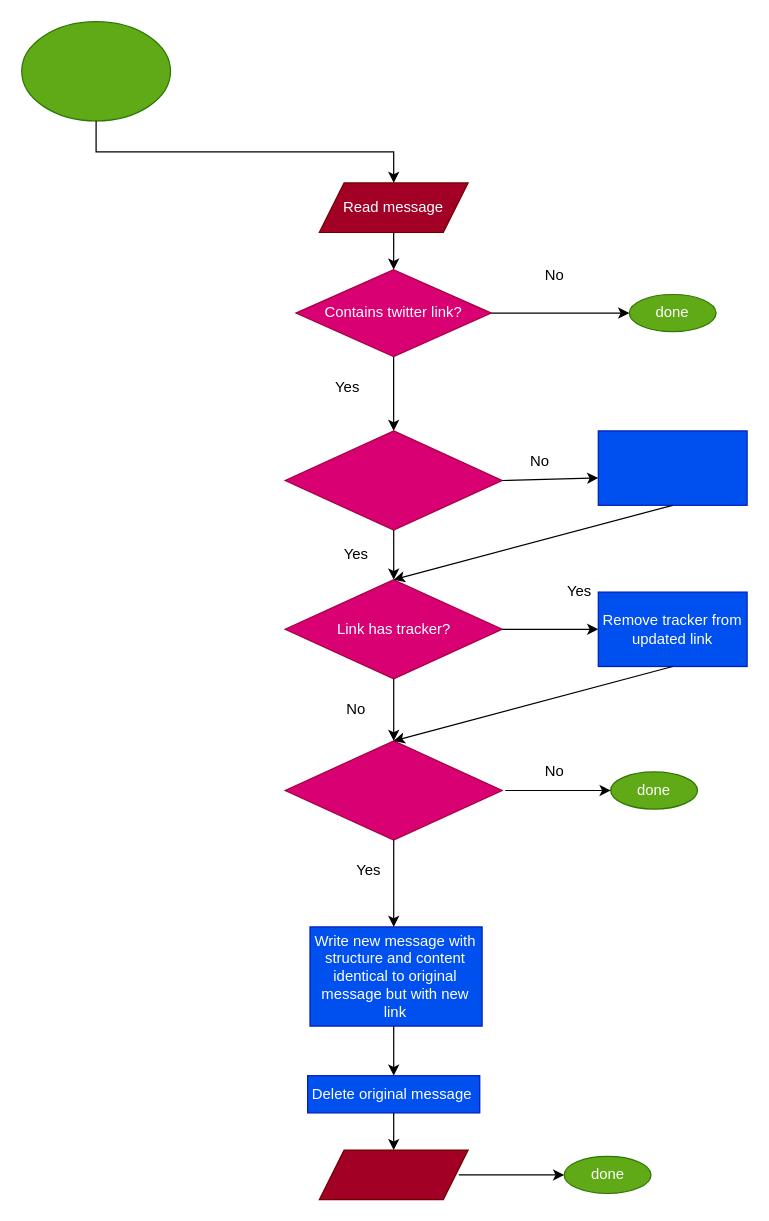
Some shapes in this 769 by 1221 pixel diagram are drawn without their labels. The shapes that lost their labels are listed below. From the top down, each one's box as (x1, y1, x2, y2) in pixels, then its label:
(20, 20, 170, 121): Discord message sent
(284, 430, 502, 530): Link has embed fixer?
(597, 430, 747, 505): Add embed fixer to updated link
(284, 740, 502, 840): Updated link different from original?
(318, 1149, 468, 1200): Send new message
